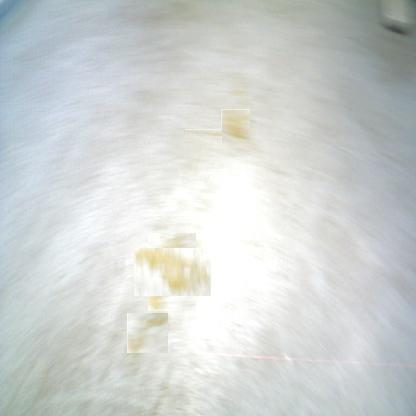liquid: (141, 240, 203, 304), (127, 313, 168, 353), (221, 109, 250, 142), (184, 129, 222, 136)
